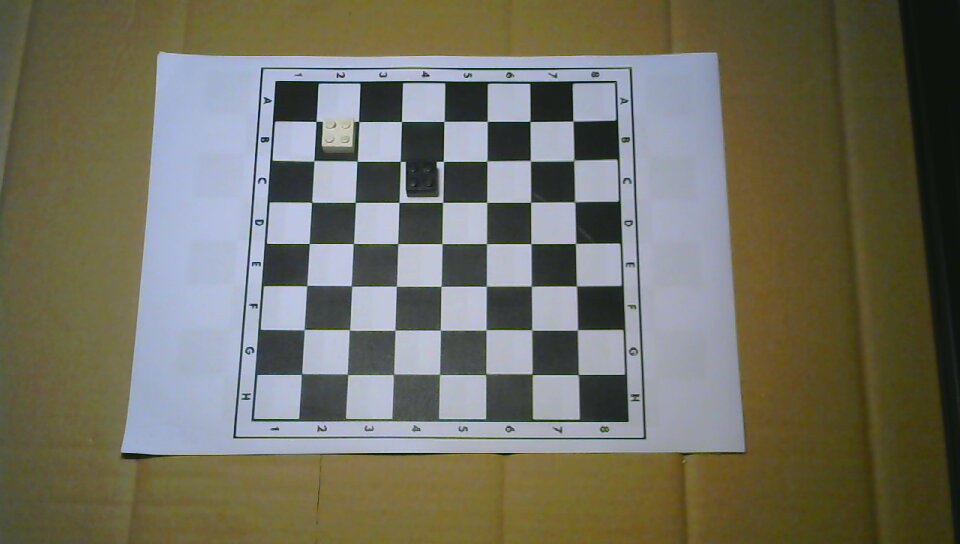bp: (403, 158, 440, 199)
wp: (320, 114, 356, 155)
